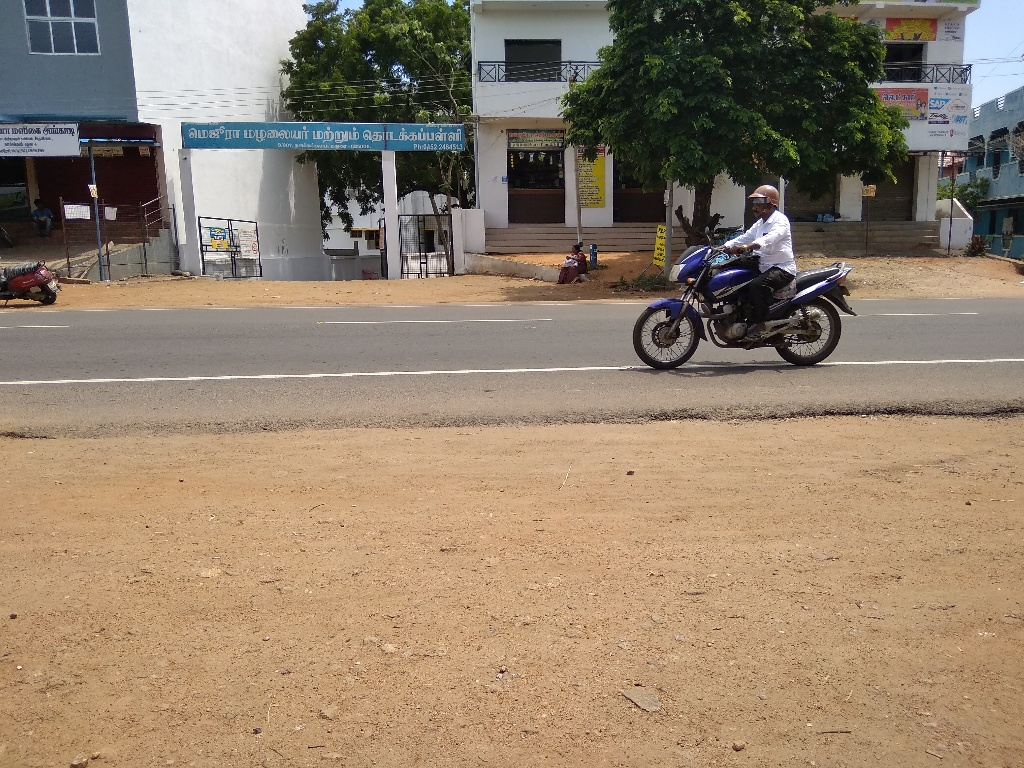biker: (613, 145, 886, 387)
helmet: (742, 172, 792, 225)
